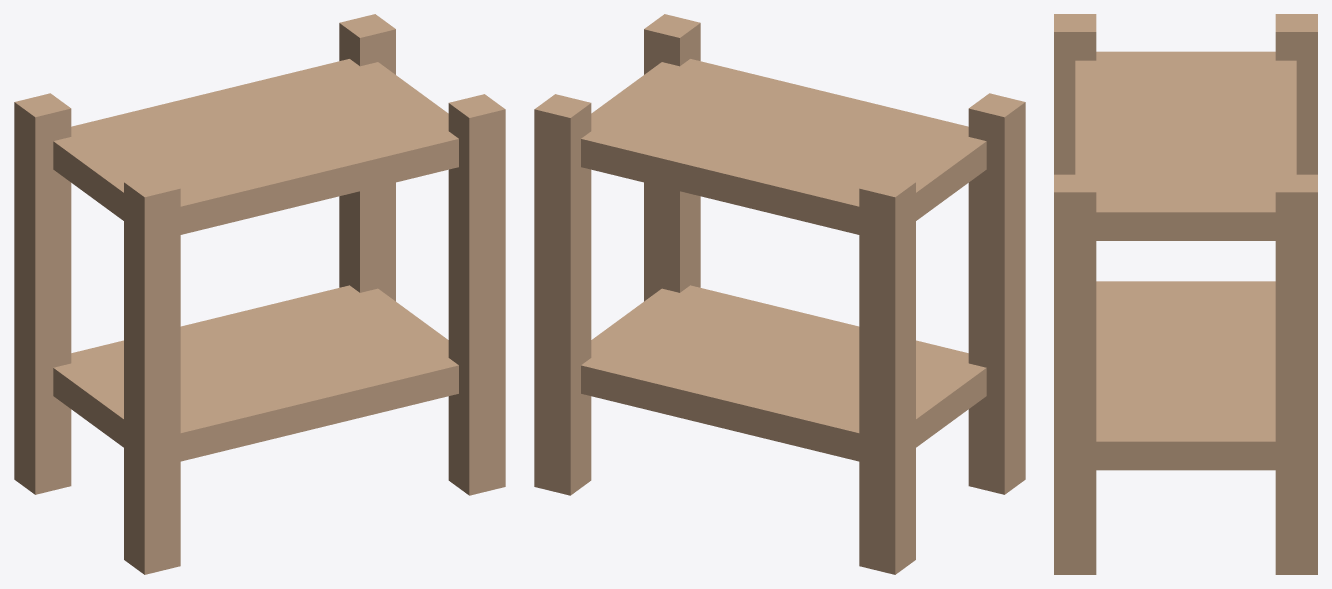
File: bookcaseOpenLow.glb
The picture shows the model from 3 angles, left to right: view 1: azimuth 30°, elevation 25°; view 2: azimuth 150°, elevation 25°; view 3: azimuth 270°, elevation 25°; orthographic projection.
Parts seen in each view (by area): view 1: bookcaseOpenLow; view 2: bookcaseOpenLow; view 3: bookcaseOpenLow.
Part boxes in pixels (x1,y1,x2,y2): bookcaseOpenLow: [14, 14, 505, 574]; bookcaseOpenLow: [534, 14, 1025, 574]; bookcaseOpenLow: [1054, 14, 1317, 574].
Bounding box in the file's own units: 0.4 × 0.4 × 0.25.
